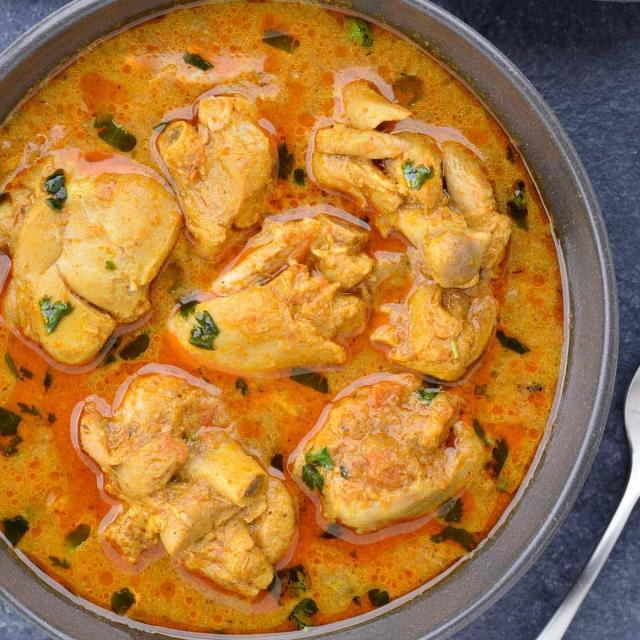chicken: (11, 27, 583, 618)
